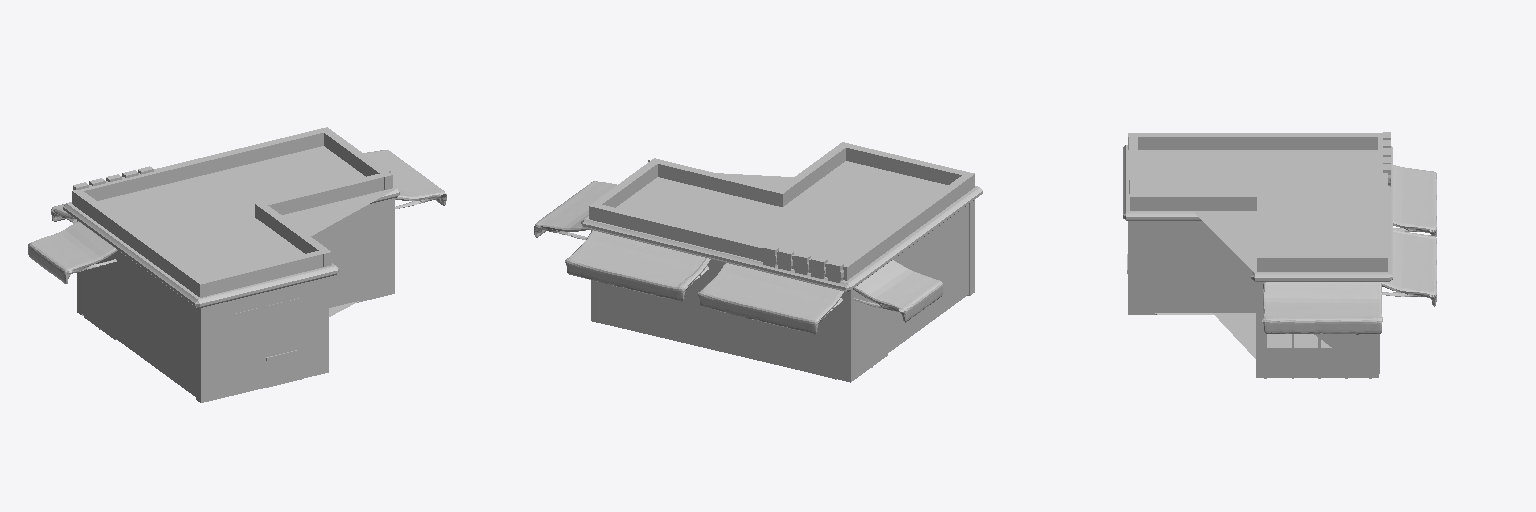
File: fach1.obj
3 views of the same model, side by side, from view 1: azimuth 30°, elevation 25°; view 2: azimuth 150°, elevation 25°; view 3: azimuth 270°, elevation 25° (orthographic).
Parts seen in each view (by area): view 1: polySurface27 polySurface7, polySurface24, pCube18, Mesh2, pCube15, pCube20, pCube17, Mesh1, pCube16, pCube19, pCube77; view 2: polySurface27 polySurface7, polySurface24, d08ac9a3_Toldo_enrrollable_d:Mesh, polySurface12 polySurface10 Mesh, pCube18, Mesh2, pCube15, pCube20, pCube17, Mesh1, pCube16, pCube19; view 3: polySurface24, polySurface27 polySurface7, Mesh1, pCube15, polySurface12 polySurface10 Mesh, d08ac9a3_Toldo_enrrollable_d:Mesh, pCube19, pCube16, polySurface28, pCube18, pCube61, pCube60 (+3 smaller).
Boxes of the visible parts, x1,y1,x2,y2 form: polySurface27 polySurface7: [77, 198, 394, 402]; polySurface24: [63, 146, 399, 308]; pCube18: [80, 128, 329, 200]; Mesh2: [28, 221, 117, 283]; pCube15: [72, 190, 208, 297]; pCube20: [255, 174, 383, 220]; pCube17: [204, 250, 324, 295]; Mesh1: [363, 150, 446, 208]; pCube16: [260, 205, 331, 266]; pCube19: [320, 127, 392, 189]; pCube77: [267, 353, 299, 387]; polySurface27 polySurface7: [591, 200, 974, 382]; polySurface24: [581, 161, 982, 291]; d08ac9a3_Toldo_enrrollable_d:Mesh: [698, 263, 843, 334]; polySurface12 polySurface10 Mesh: [565, 230, 710, 301]; pCube18: [590, 205, 830, 277]; Mesh2: [853, 260, 942, 322]; pCube15: [843, 172, 974, 280]; pCube20: [658, 160, 786, 206]; pCube17: [845, 143, 965, 184]; Mesh1: [534, 181, 616, 239]; pCube16: [779, 142, 846, 203]; pCube19: [589, 158, 661, 218]; polySurface24: [1123, 145, 1392, 281]; polySurface27 polySurface7: [1128, 221, 1379, 377]; Mesh1: [1262, 282, 1382, 334]; pCube15: [1128, 133, 1382, 149]; polySurface12 polySurface10 Mesh: [1380, 229, 1436, 306]; d08ac9a3_Toldo_enrrollable_d:Mesh: [1393, 165, 1436, 236]; pCube19: [1257, 254, 1387, 271]; pCube16: [1130, 193, 1256, 210]; polySurface28: [1155, 313, 1328, 358]; pCube18: [1378, 136, 1387, 257]; pCube61: [1288, 351, 1315, 377]; pCube60: [1316, 351, 1343, 377].
Size of the model in its own units: 12.98 by 4.15 by 9.65.